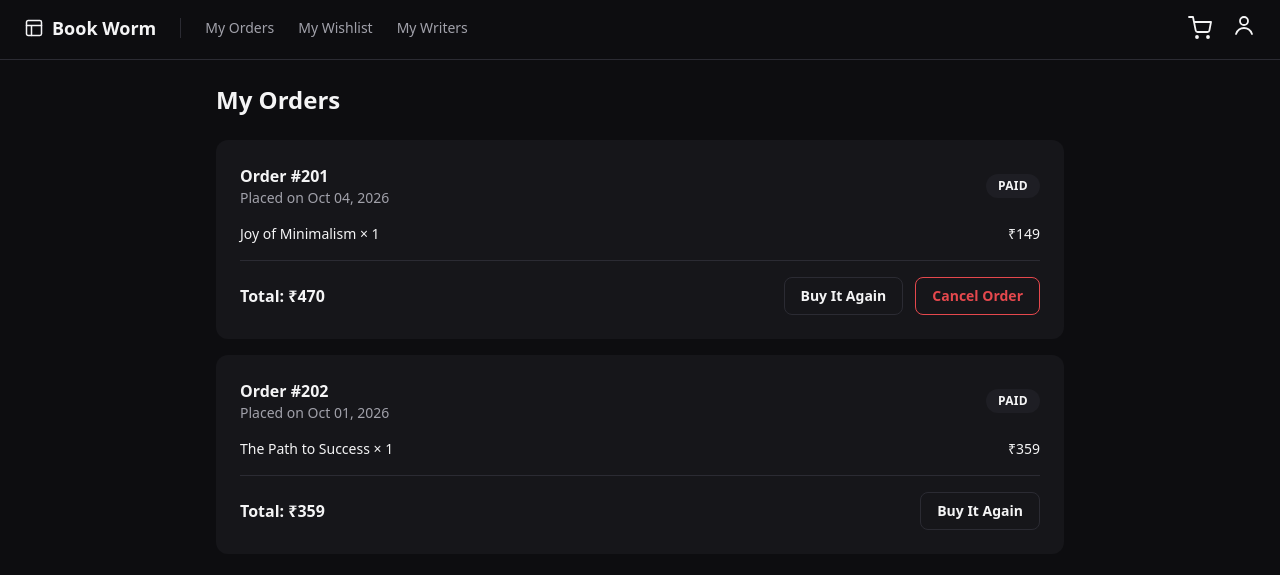
Test case: MyOrdersPage › gracefully surfaces a 422 if the cancellation window closes before the click lands
Click the button "Cancel Order". click: [978, 296]
box: [915,277,1040,315]
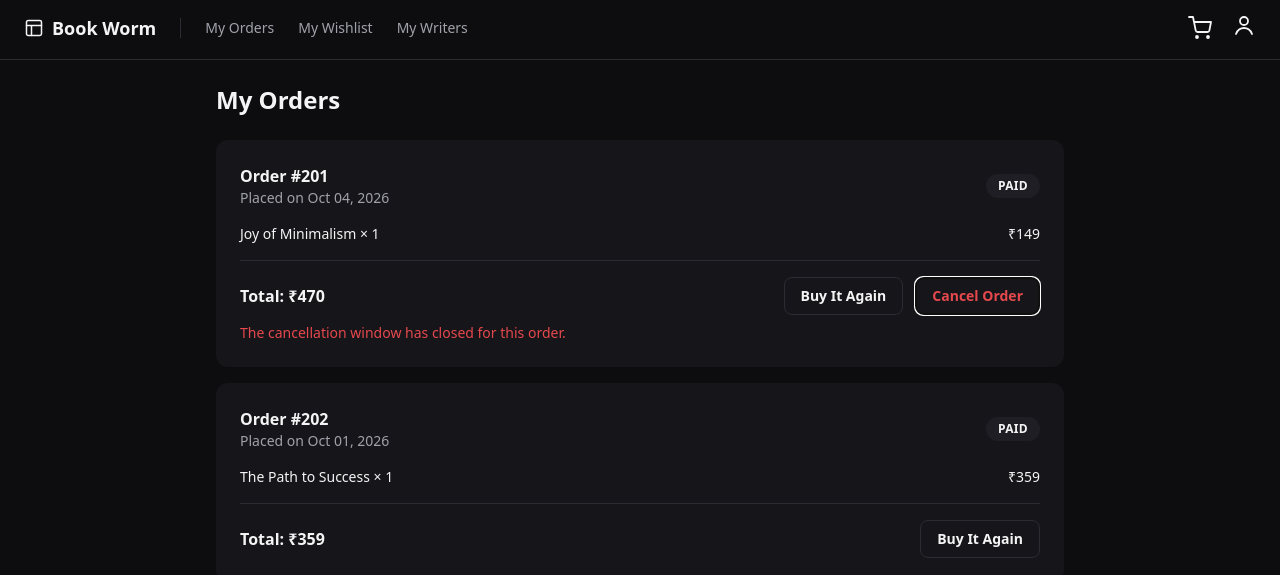
Check: the text "The cancellation window has closed for this order." is shown, box [240,323,566,342]
